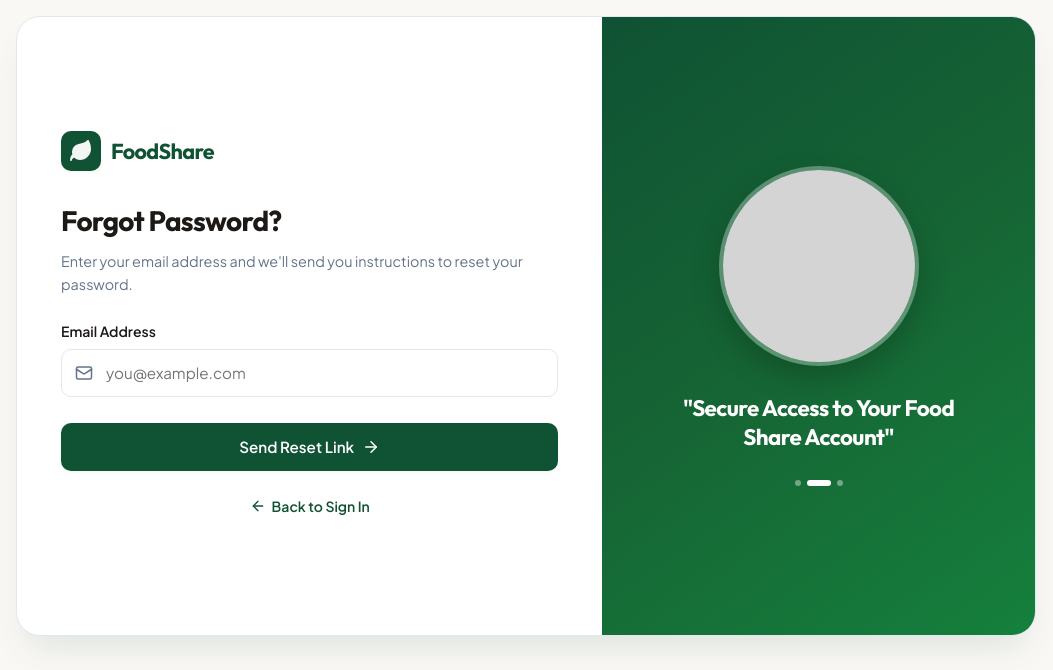
Test case: ForgotPasswordPage Component › validates empty email on submission
The width and height of the screenshot is (1053, 670).
Click the button "Send Reset Link": (310, 447) x1=61 y1=423 x2=558 y2=471
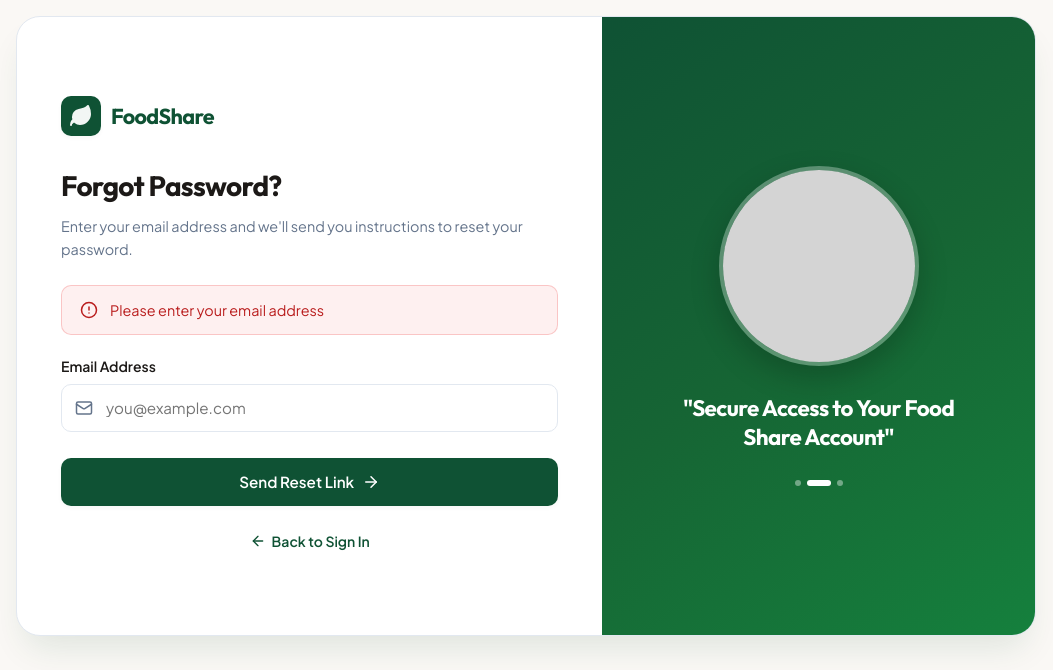
Now the text "Please enter your email address" is shown, box x1=110 y1=300 x2=324 y2=320
